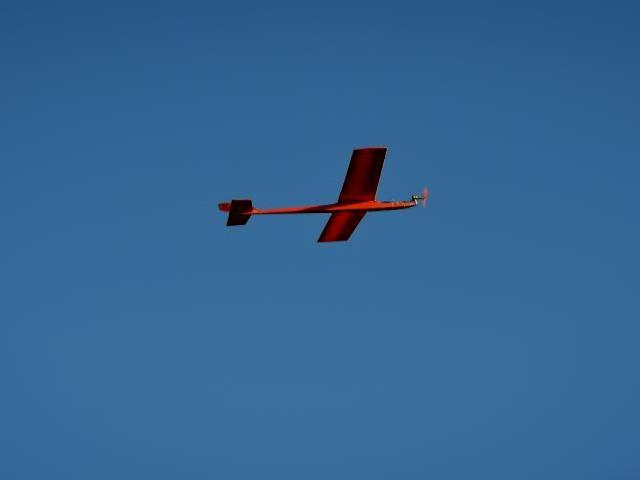iha: (215, 145, 431, 247)
